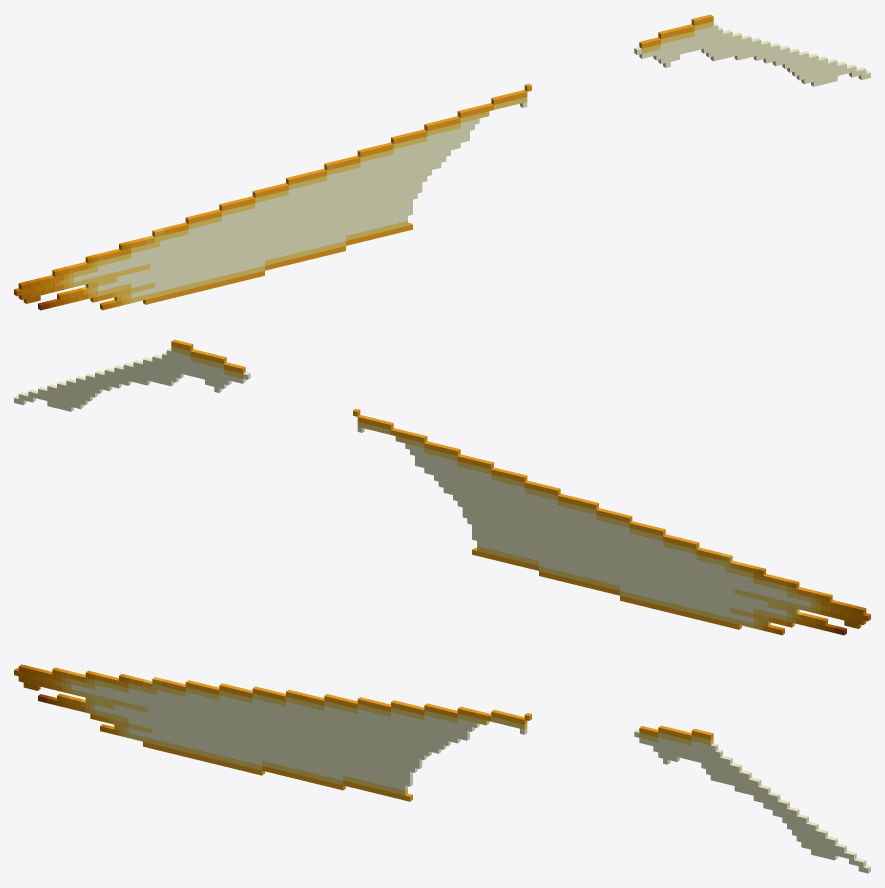
Rendered from Fight_001_2_07_fx.obj.
3 renders of one model, top to bottom at view 1: azimuth 30°, elevation 25°; view 2: azimuth 150°, elevation 25°; view 3: azimuth 330°, elevation 25°, orthographic.
Bounding box in the file's own units: 17.9 × 3 × 0.1.
